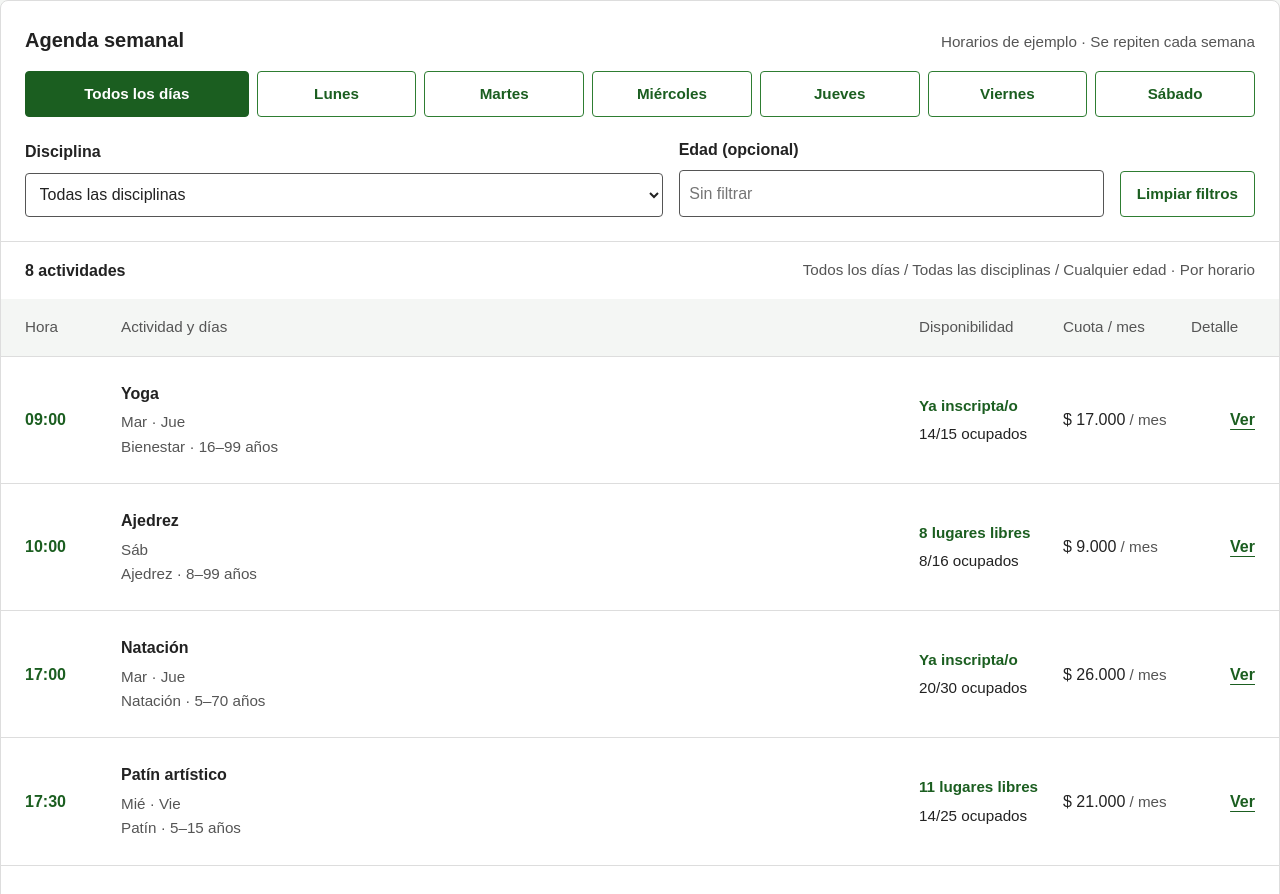
Test: disciplina y edad se combinan; sin resultados conserva los filtros y permite recuperarse
Select "Bienestar" in the dropdown labelled "Disciplina" at (344, 195), box top-left (25, 173), bottom-right (663, 217)
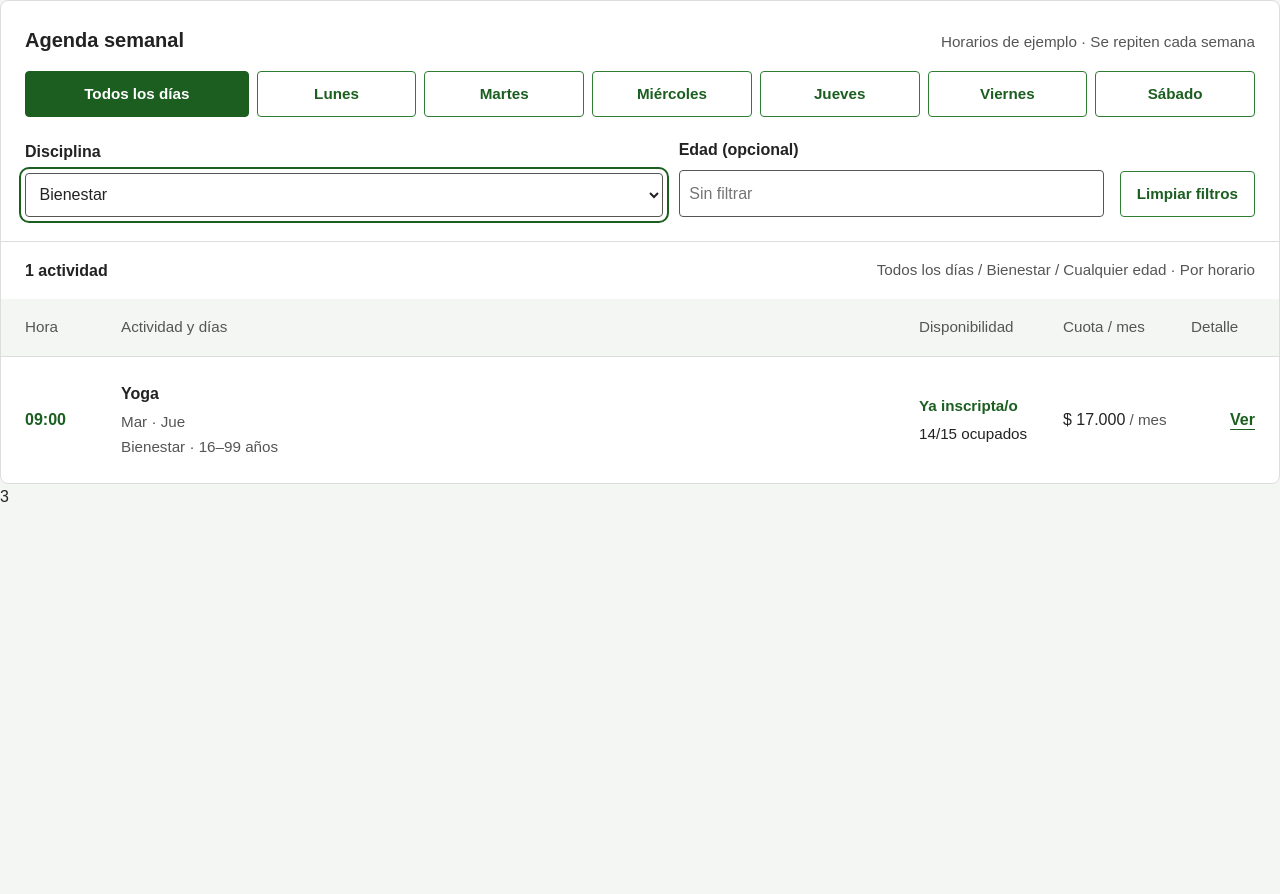
Type "15" into the number field labelled "Edad (opcional)" at (891, 194), box top-left (679, 170), bottom-right (1104, 217)
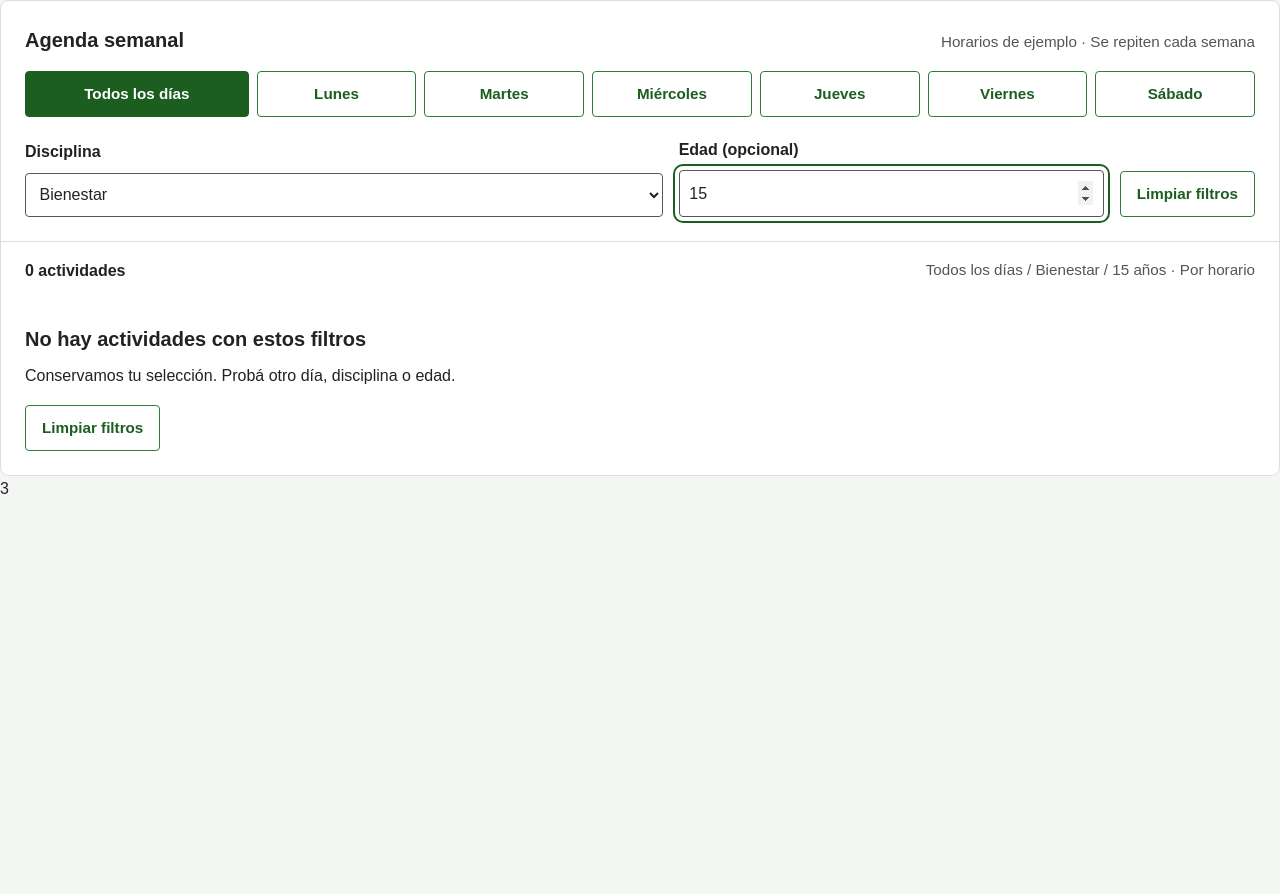
Expected: the text named "Actividades seleccionadas" reads "3", top-left (0, 480), bottom-right (9, 497)
Expected: the heading "No hay actividades con estos filtros" is shown, top-left (25, 328), bottom-right (366, 350)
Click the 1st button "Limpiar filtros" at (1187, 194), box top-left (1120, 171), bottom-right (1255, 217)
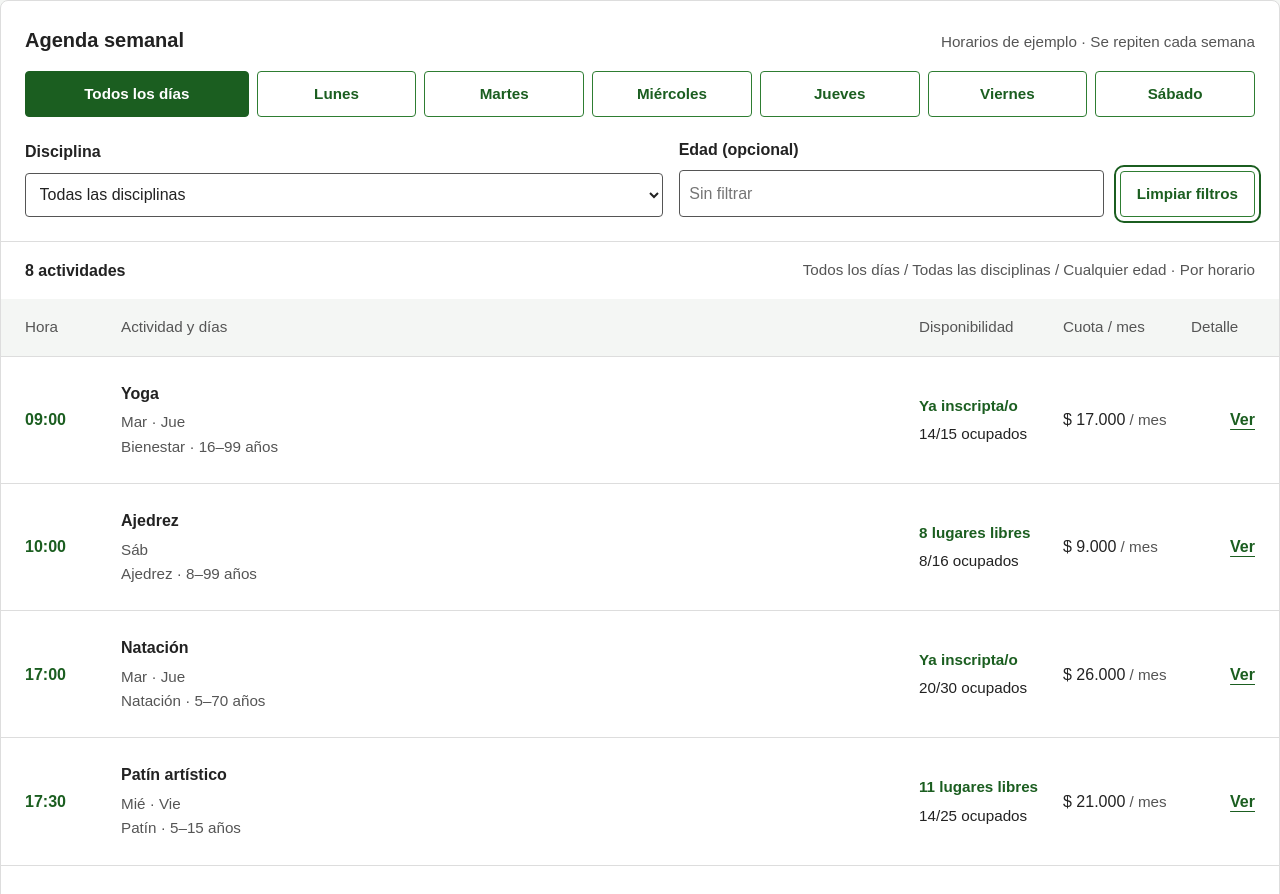
Expected: the number field labelled "Edad (opcional)" is not empty, top-left (679, 170), bottom-right (1104, 217)
